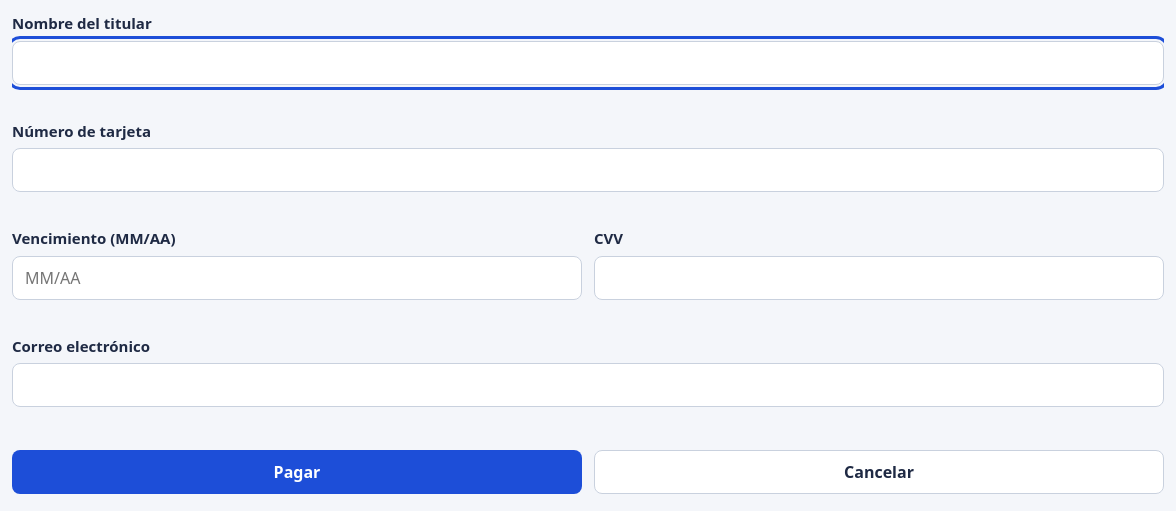
PaymentForm › errors › shows a field error only after the user leaves the field
Type "Jo" into the field labelled "Nombre del titular" at [588, 62], box [12,40,1164,84]
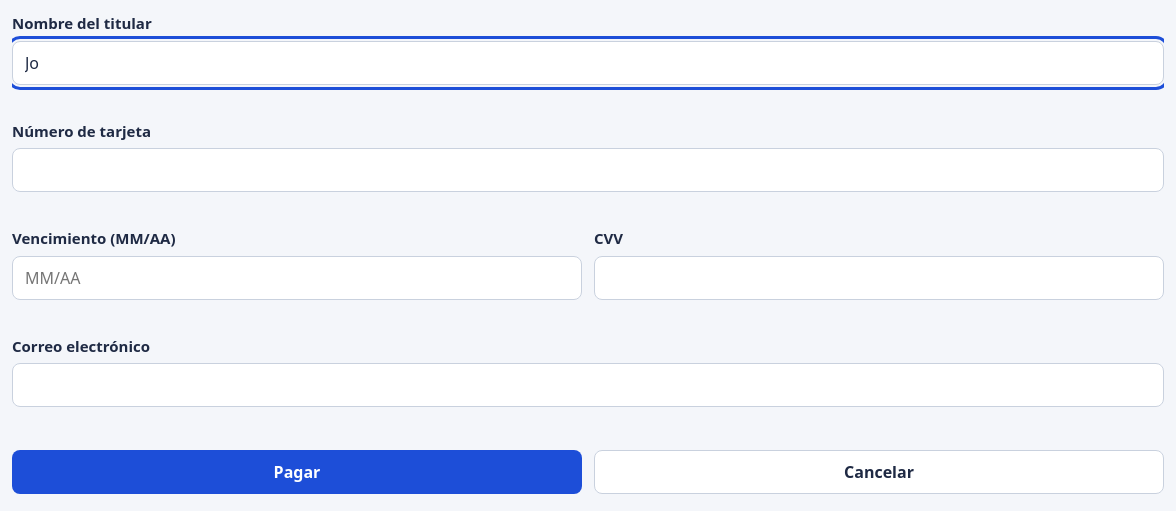
Press Tab
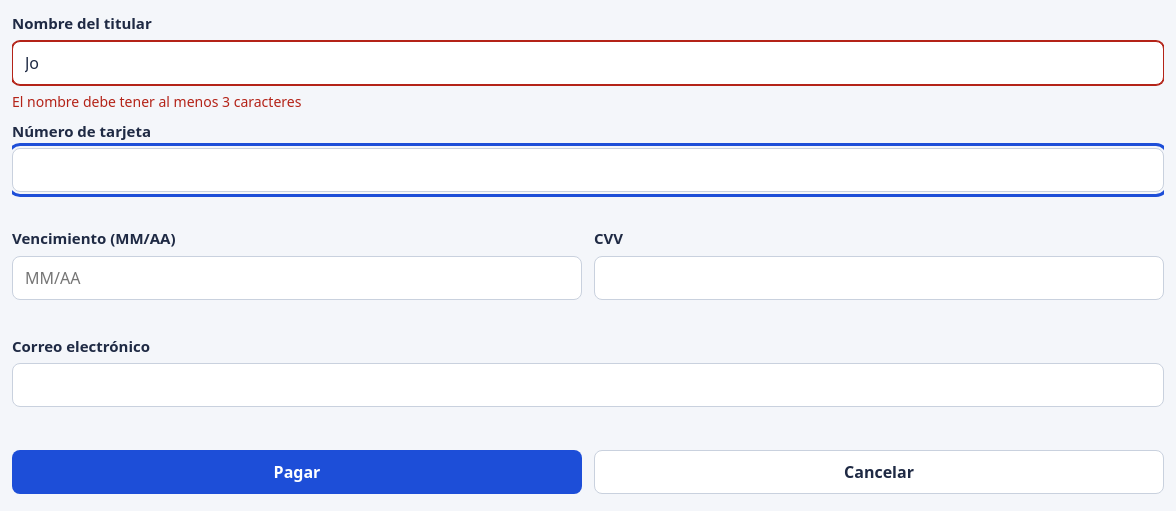
Expected: the message reads "El nombre debe tener al menos 3 caracteres", [12,92,301,110]
